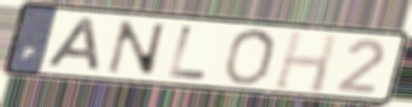2: (332, 38, 387, 96)
A: (44, 16, 103, 73)
H: (271, 28, 342, 95)
L: (165, 23, 211, 82)
N: (105, 18, 167, 78)
O: (220, 27, 279, 87)
